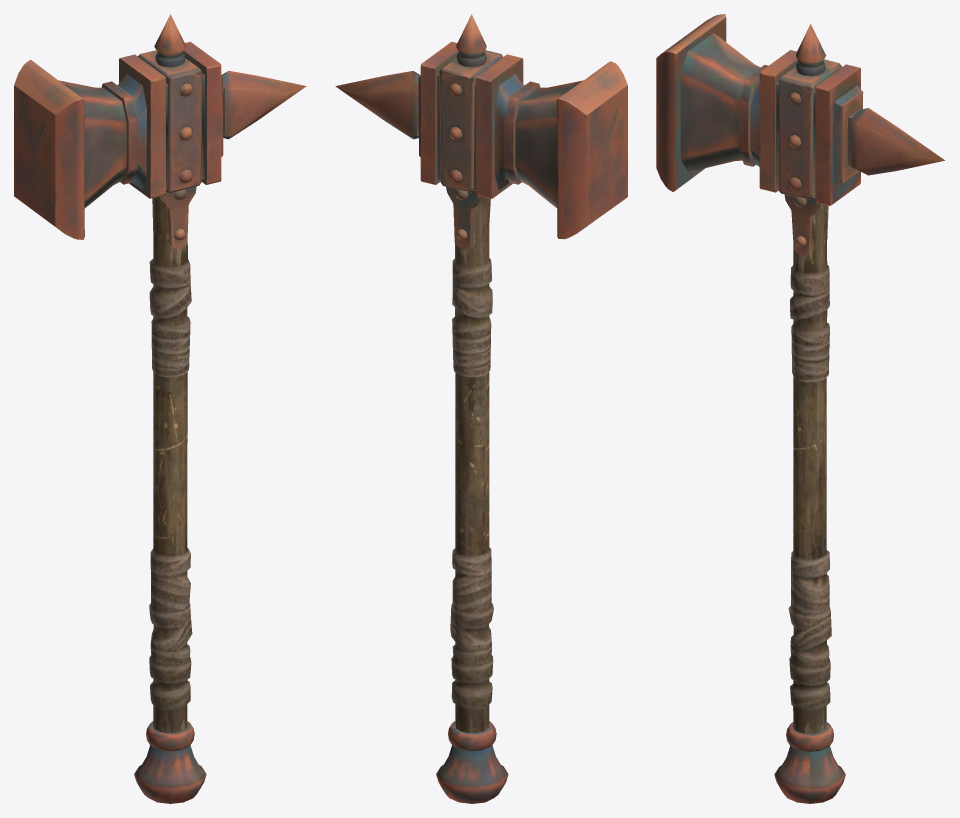
The picture shows the model from 3 angles, left to right: view 1: azimuth 30°, elevation 25°; view 2: azimuth 150°, elevation 25°; view 3: azimuth 330°, elevation 25°; orthographic projection.
Visible parts, largest first — view 1: SM_Warhammer_Bronze_2H_01_LOD0; view 2: SM_Warhammer_Bronze_2H_01_LOD0; view 3: SM_Warhammer_Bronze_2H_01_LOD0.
Part boxes in pixels (box(x1,y1,x2,y2)): SM_Warhammer_Bronze_2H_01_LOD0: box(14, 14, 306, 803); SM_Warhammer_Bronze_2H_01_LOD0: box(335, 14, 627, 803); SM_Warhammer_Bronze_2H_01_LOD0: box(656, 14, 944, 803).
Bounding box in the file's own units: 0.5331 × 1.46 × 0.1795.
1 material, 1 textured.
